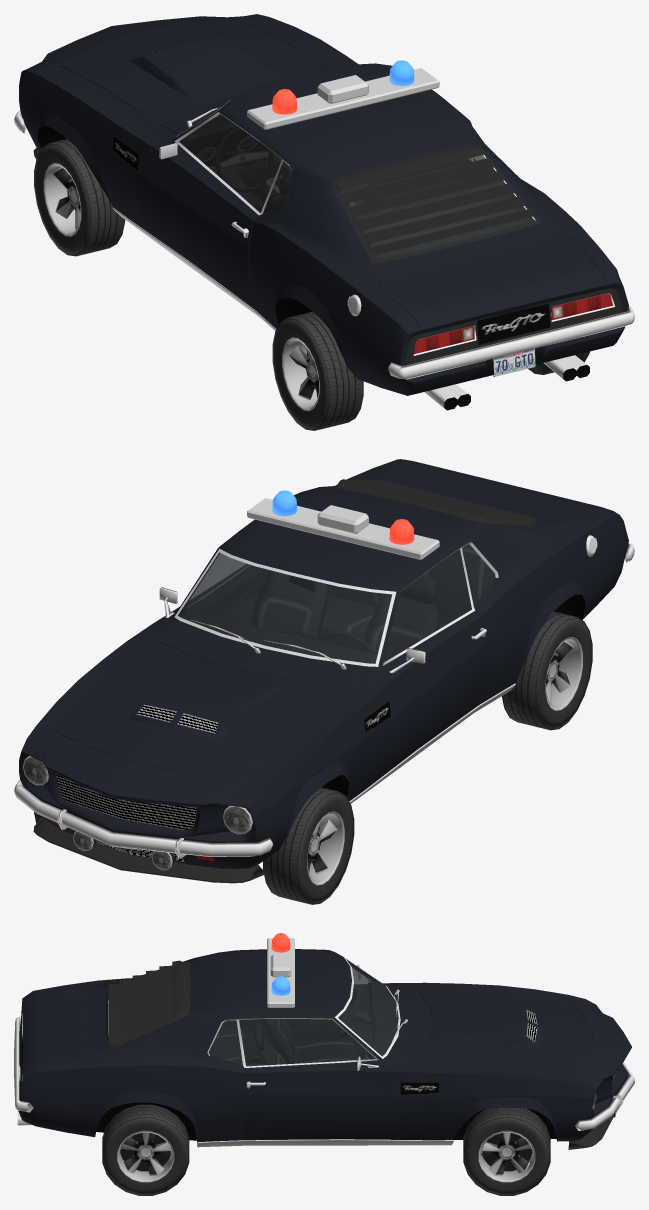
The model's file is car_police_1970s.glb.
The picture shows the model from 3 angles, top to bottom: view 1: azimuth 30°, elevation 25°; view 2: azimuth 150°, elevation 25°; view 3: azimuth 270°, elevation 25°; orthographic projection. The views are drawn at different scales.
Parts seen in each view (by area): view 1: car; view 2: car; view 3: car.
Part boxes in pixels (x1,y1,x2,y2): car: [14, 14, 634, 430]; car: [14, 459, 634, 904]; car: [14, 933, 634, 1195].
Bounding box in the file's own units: 1.83 × 1.64 × 4.85.
17 materials, 10 textured.
